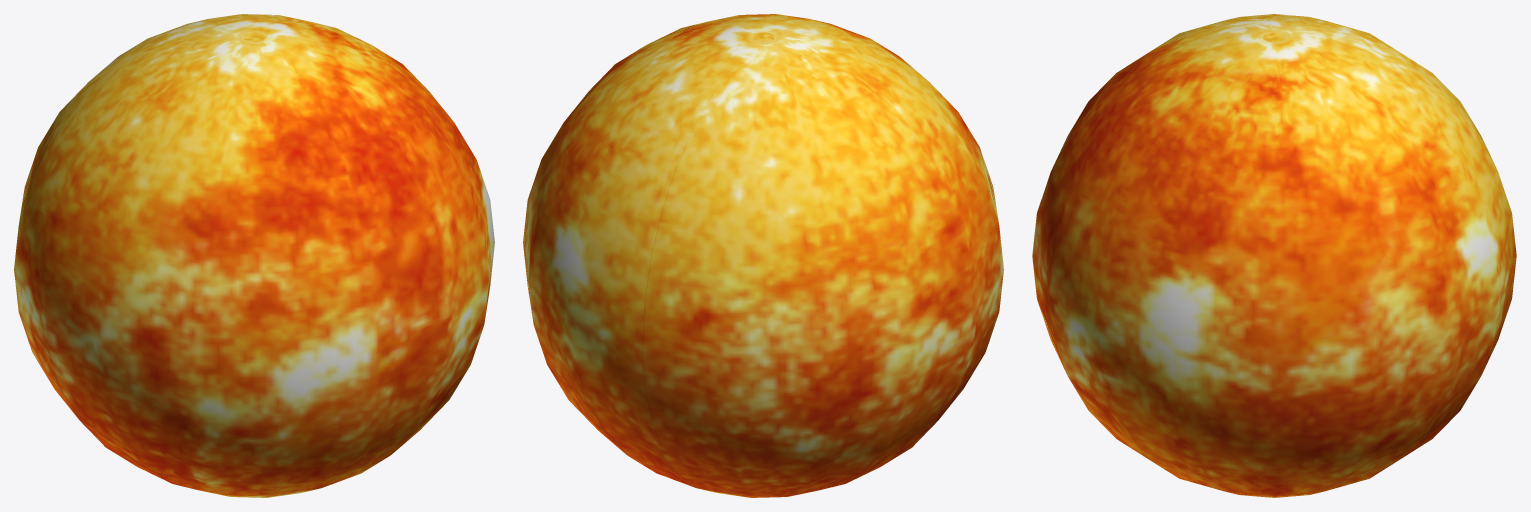
Rendered from Sun.fbx.
The picture shows the model from 3 angles, left to right: view 1: azimuth 30°, elevation 25°; view 2: azimuth 150°, elevation 25°; view 3: azimuth 270°, elevation 25°; orthographic projection.
Visible parts, largest first — view 1: Sun; view 2: Sun; view 3: Sun.
Part boxes in pixels (x1,y1,x2,y2): Sun: (14, 14, 494, 497); Sun: (523, 14, 1003, 497); Sun: (1032, 14, 1516, 497).
Size of the model in its own units: 15.5 by 15.43 by 15.5.
